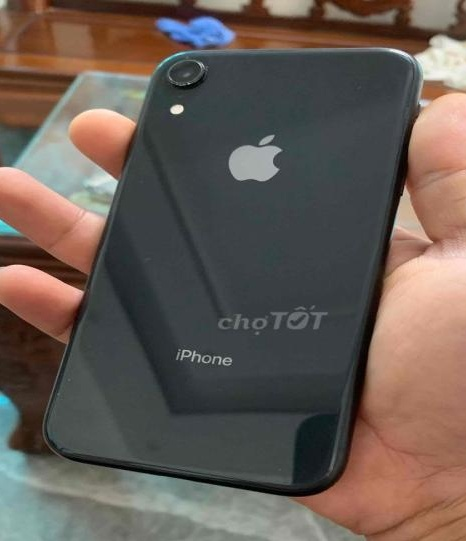scratch: (39, 369, 81, 399), (271, 462, 312, 486), (192, 55, 221, 80), (172, 46, 201, 66), (352, 78, 373, 102), (130, 168, 155, 187), (134, 253, 158, 267), (83, 340, 99, 354)
